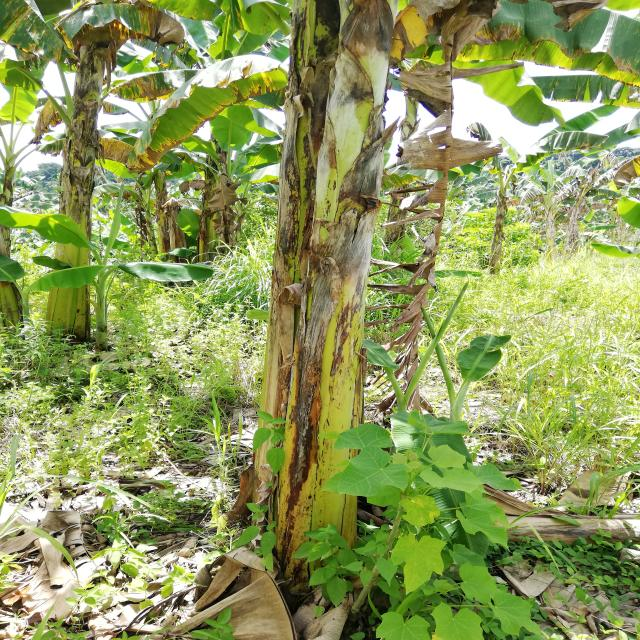Banana-plant: (188, 5, 401, 596), (29, 23, 128, 349)
